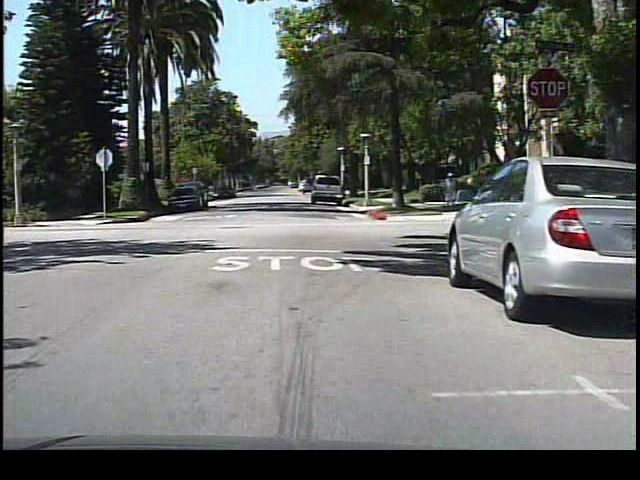person: (437, 167, 461, 214)
